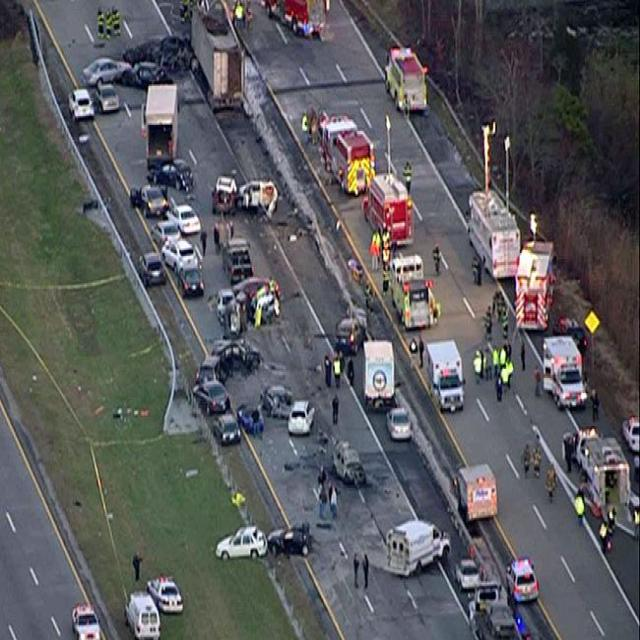traffic_incident: (185, 157, 381, 503), (72, 24, 197, 99)
